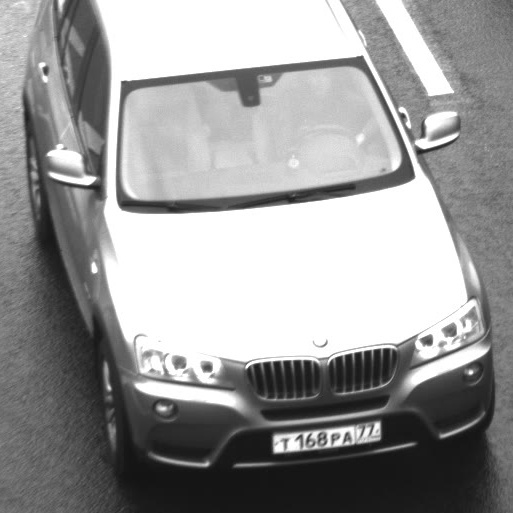plate: (262, 408, 391, 462)
